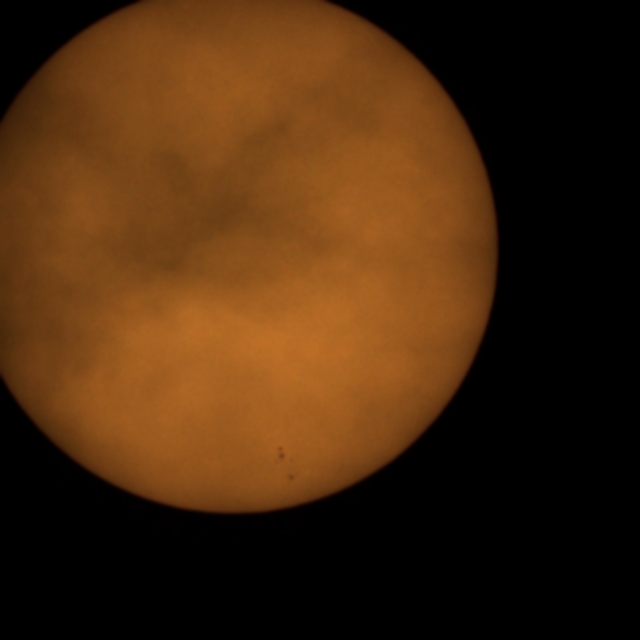sunspot: (276, 444, 296, 482), (276, 444, 293, 464), (286, 472, 296, 482)
